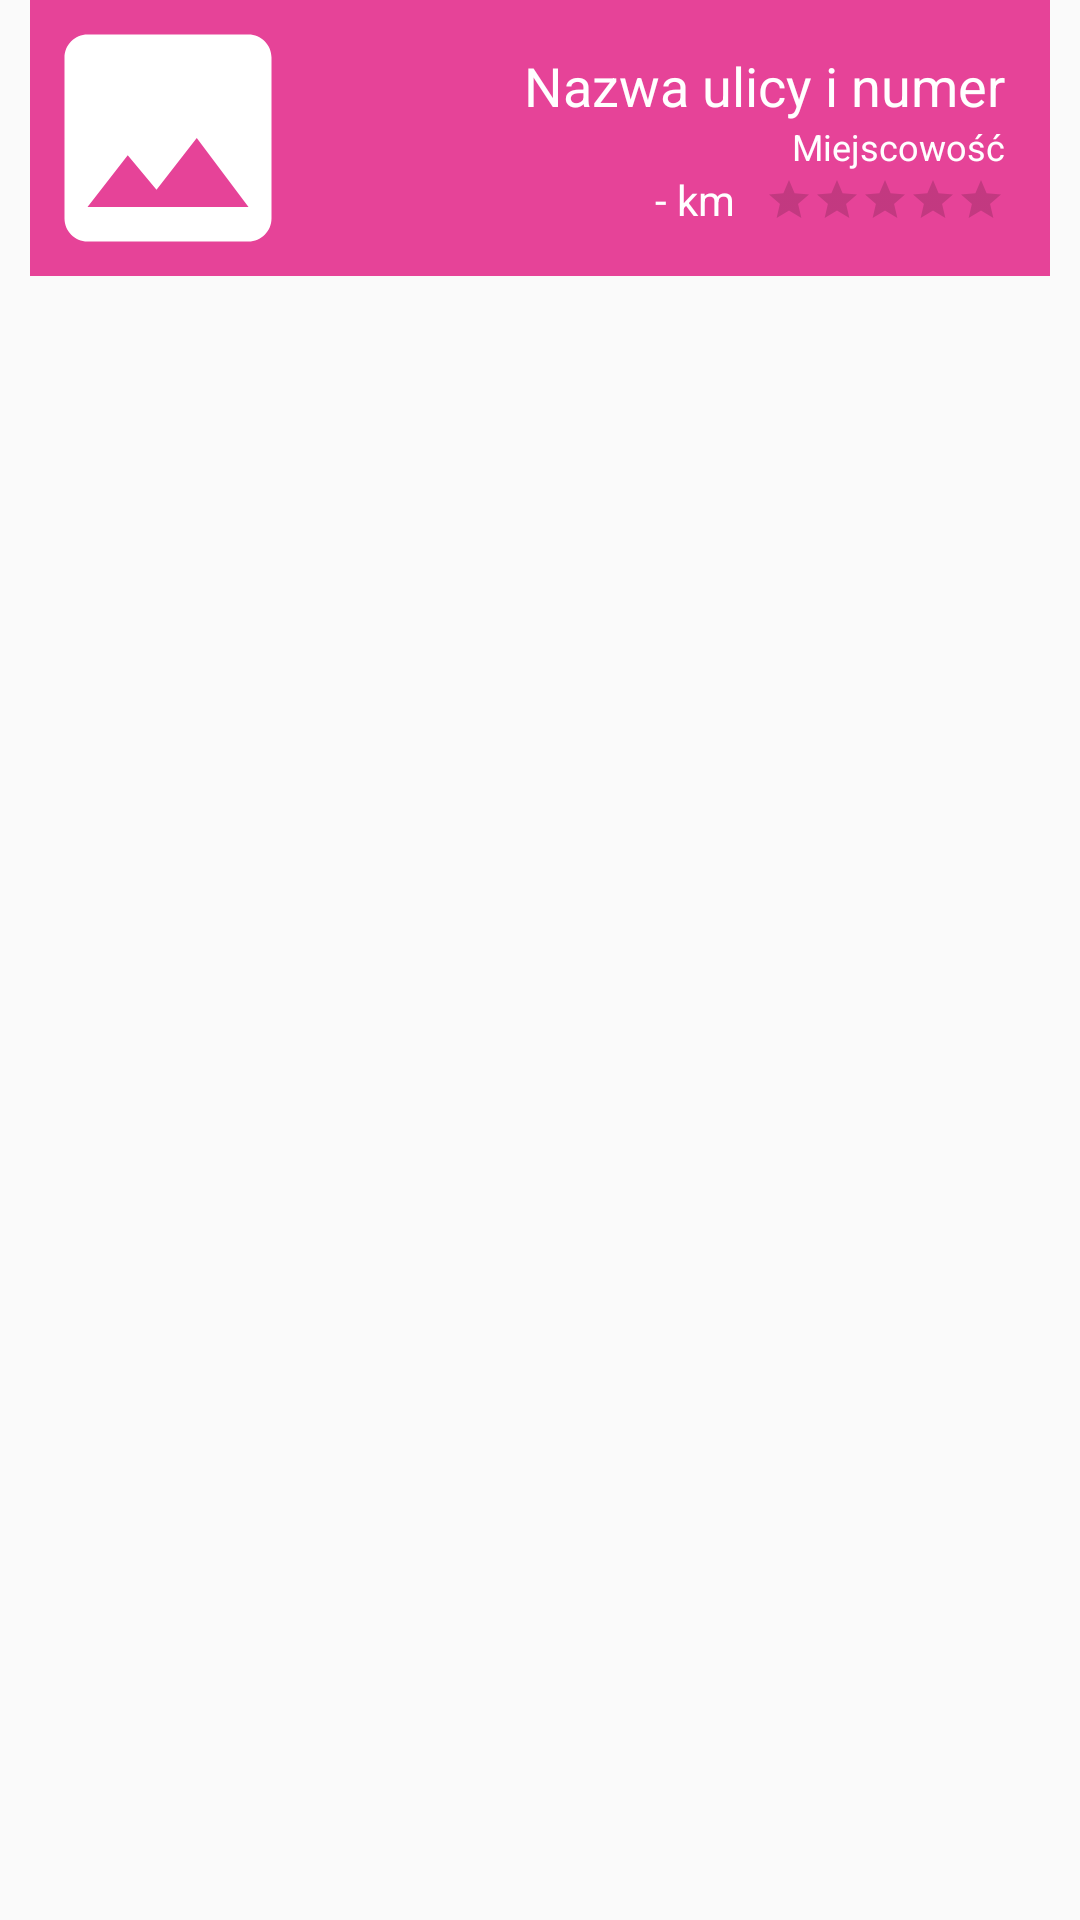

Icon click points for this 1080*1920 phone screenshot, format (x=x, y=y):
Ikona zdjęcia: (x=168, y=138)
